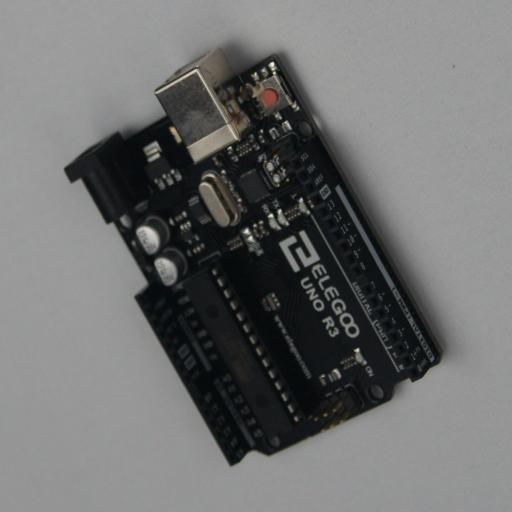Arduino Uno -Black-: (64, 46, 447, 466)
